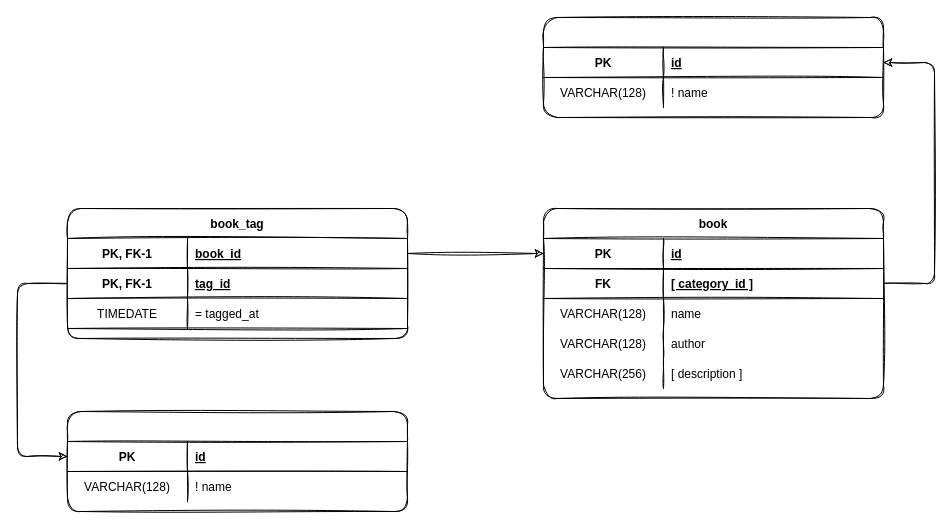
This 952x529 diagram has some shape labels left out. Here are the shapes that lost their labels. From the top down, the box of each, then its label:
(542, 16, 884, 118): category
(66, 410, 408, 512): tag
